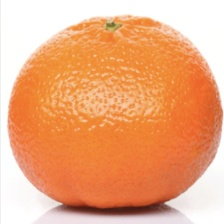orange: (0, 23, 186, 174)
